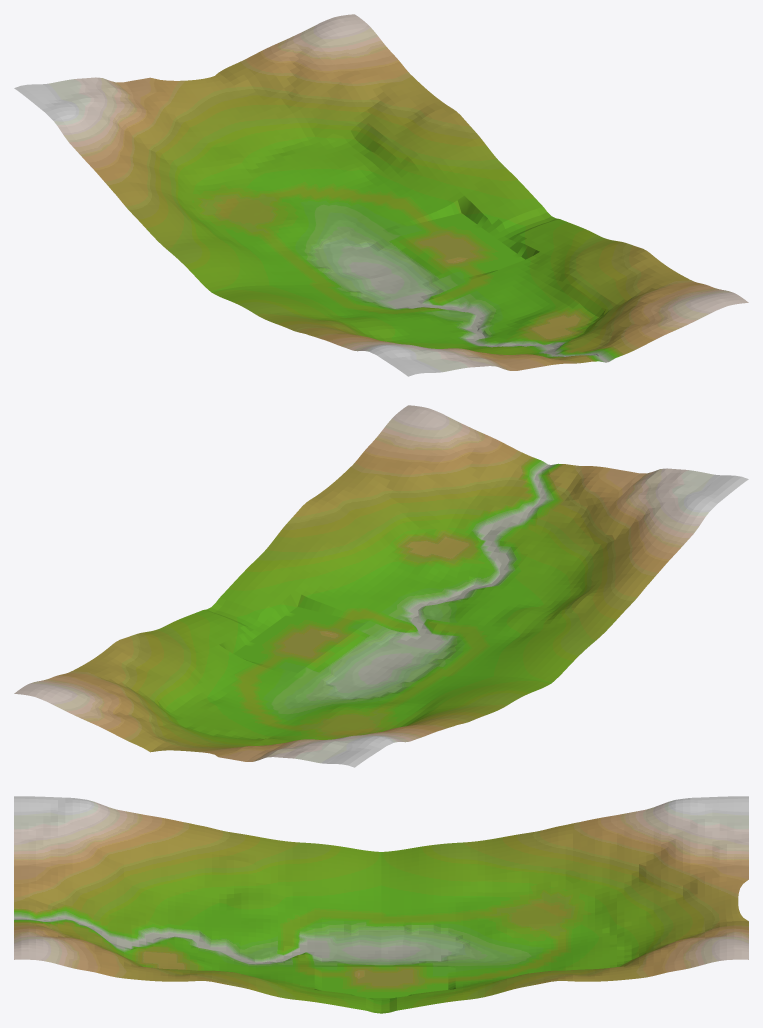
File: map.fbx
3 views of the same model, one above another, from view 1: azimuth 30°, elevation 25°; view 2: azimuth 150°, elevation 25°; view 3: azimuth 270°, elevation 25° (orthographic). The views are drawn at different scales.
Parts seen in each view (by area): view 1: 更多3d素材szyt.taobao.com.001; view 2: 更多3d素材szyt.taobao.com.001; view 3: 更多3d素材szyt.taobao.com.001.
Boxes of the visible parts, box(x1,y1,x2,y2) form: 更多3d素材szyt.taobao.com.001: box(14, 14, 748, 376); 更多3d素材szyt.taobao.com.001: box(14, 405, 748, 767); 更多3d素材szyt.taobao.com.001: box(14, 796, 748, 1013).
Bounding box in the file's own units: 31345 × 15641 × 3816.
